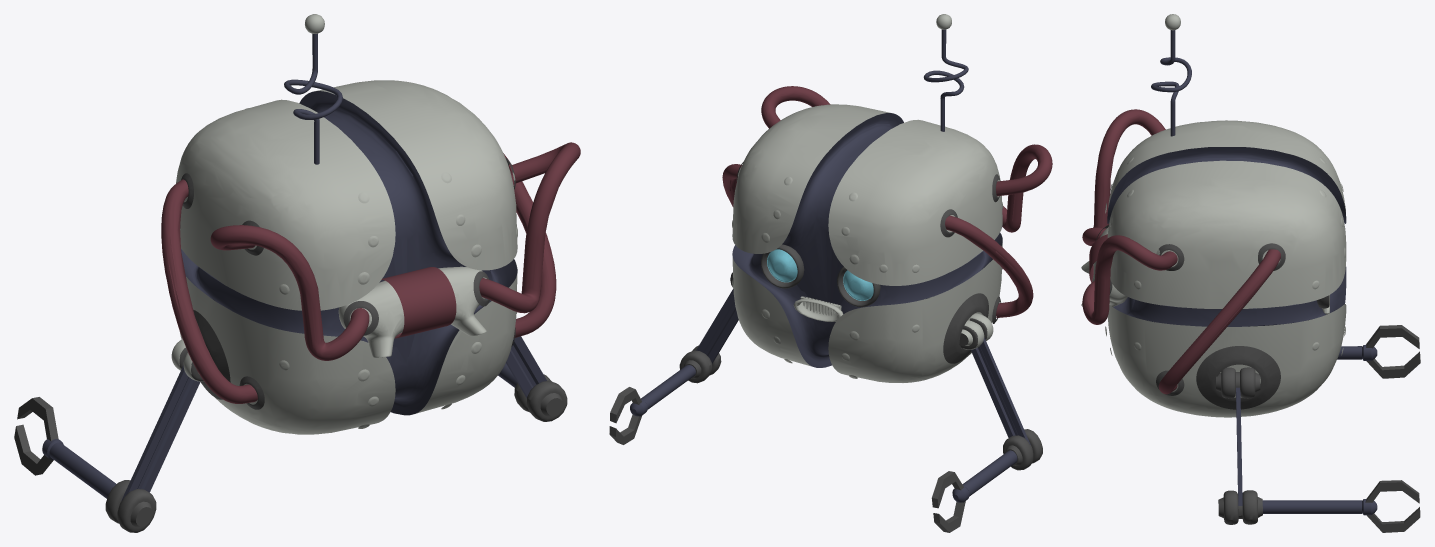
Rendered from PNG.fbx.
3 renders of one model, left to right at view 1: azimuth 30°, elevation 25°; view 2: azimuth 150°, elevation 25°; view 3: azimuth 270°, elevation 25°, orthographic. The views are drawn at different scales.
Visible parts, largest first — view 1: robot, brazo izq, codo izq, garra izq, codo der, tubo izq, antena, brazo der; view 2: robot, brazo izq, brazo der, tubo izq, garra izq, codo izq, tubo der, garra der, antena, codo der; view 3: robot, tubo der, garra izq, codo der, garra der, hombro der, antena, brazo der, tubo izq.
Boxes of the visible parts, bbox=[...] form: robot: bbox=[161, 14, 580, 434]; brazo izq: bbox=[121, 365, 200, 500]; codo izq: bbox=[105, 480, 156, 532]; garra izq: bbox=[14, 397, 58, 475]; codo der: bbox=[514, 374, 567, 421]; tubo izq: bbox=[42, 439, 116, 498]; antena: bbox=[284, 33, 342, 164]; brazo der: bbox=[506, 336, 546, 398]; robot: bbox=[722, 14, 1052, 382]; brazo izq: bbox=[971, 337, 1030, 445]; brazo der: bbox=[696, 289, 738, 363]; tubo izq: bbox=[952, 450, 1017, 502]; garra izq: bbox=[931, 471, 965, 532]; codo izq: bbox=[1003, 429, 1042, 470]; tubo der: bbox=[630, 365, 695, 416]; garra der: bbox=[609, 387, 642, 444]; antena: bbox=[923, 29, 968, 131]; codo der: bbox=[679, 345, 721, 383]; robot: bbox=[1081, 14, 1346, 417]; tubo der: bbox=[1262, 499, 1377, 515]; garra izq: bbox=[1366, 325, 1420, 378]; codo der: bbox=[1218, 490, 1262, 524]; garra der: bbox=[1365, 480, 1420, 532]; hombro der: bbox=[1216, 367, 1260, 398]; antena: bbox=[1151, 30, 1191, 136]; brazo der: bbox=[1236, 387, 1242, 505]; tubo izq: bbox=[1337, 345, 1377, 360].
Bounding box in the file's own units: 366 × 408 × 298.
